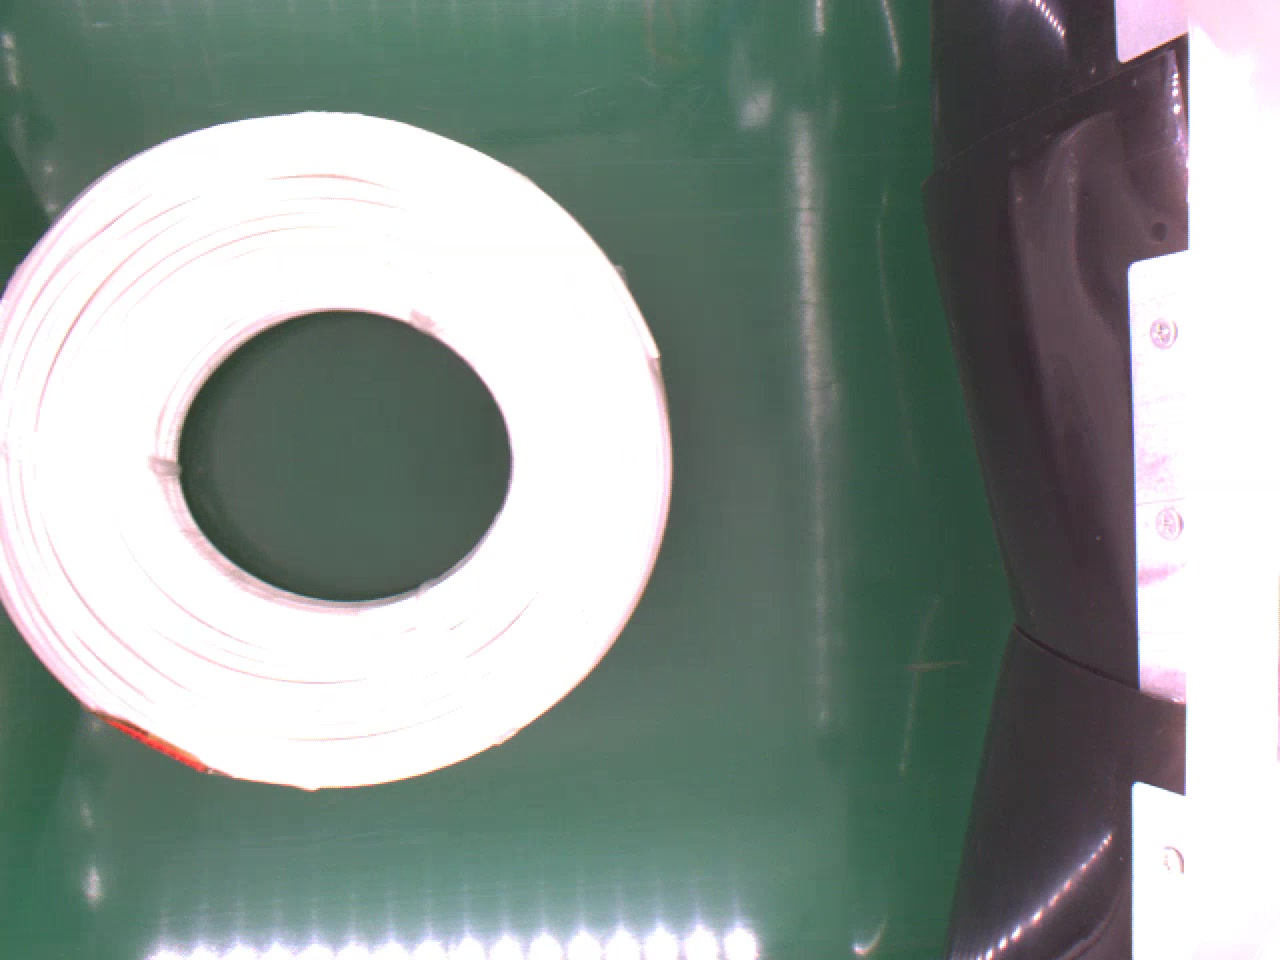white: (0, 100, 678, 802)
